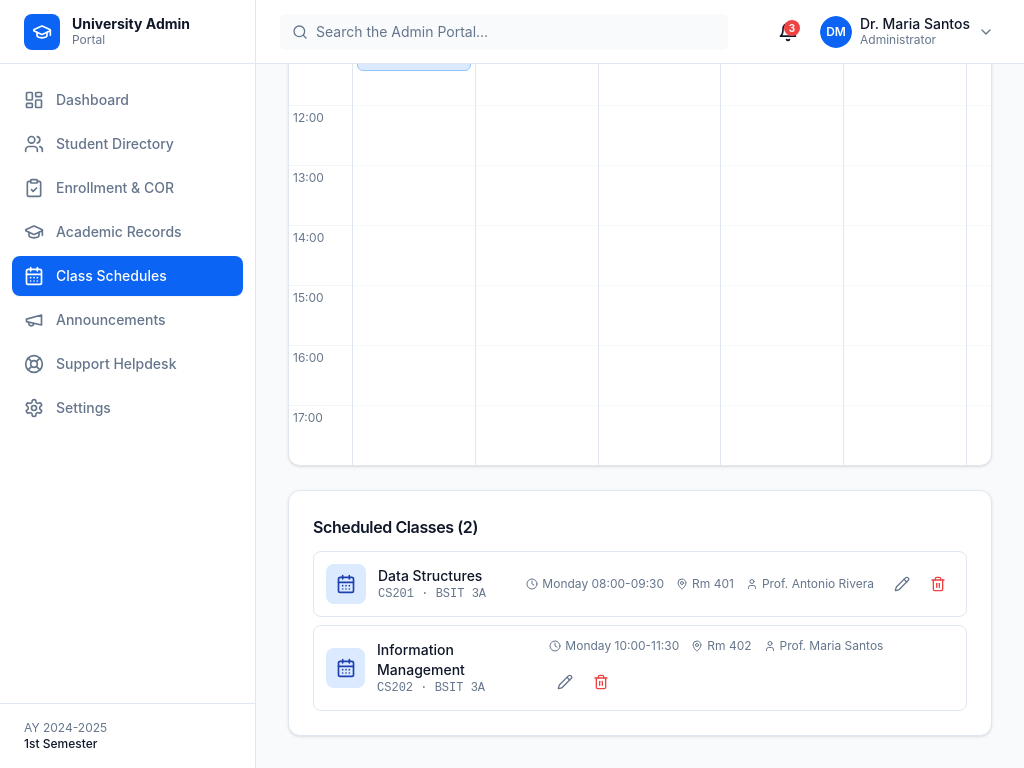
Test: class schedules: edit and delete › edits a class with the same form used to add one
(page scrolled)
Click the button named "Edit CS201 for BSIT 3A on Monday" at [902, 584], box [886, 568, 918, 600]
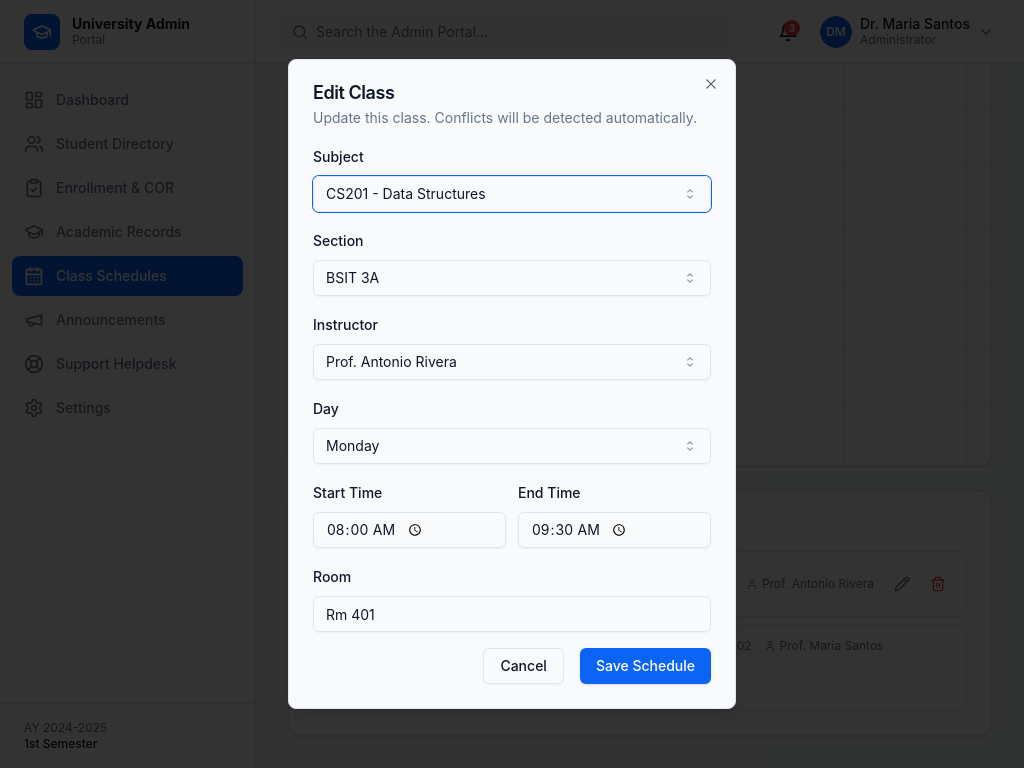
Now the heading "Edit Class" is shown, box [313, 82, 394, 103]
Now the field labelled "Room" holds "Rm 401"
Replace the text in the field labelled "Room" with "Rm 410" at [512, 614], box [313, 596, 711, 632]
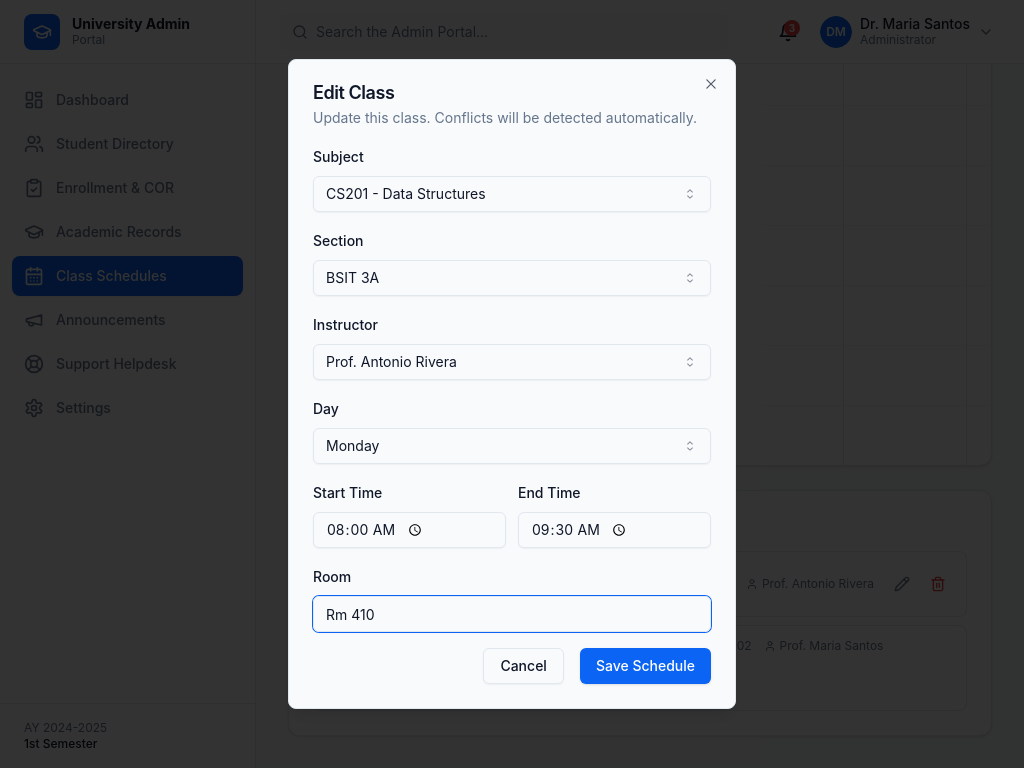
Click the button "Save Schedule" at [645, 666], box [580, 648, 711, 684]
(page scrolled)
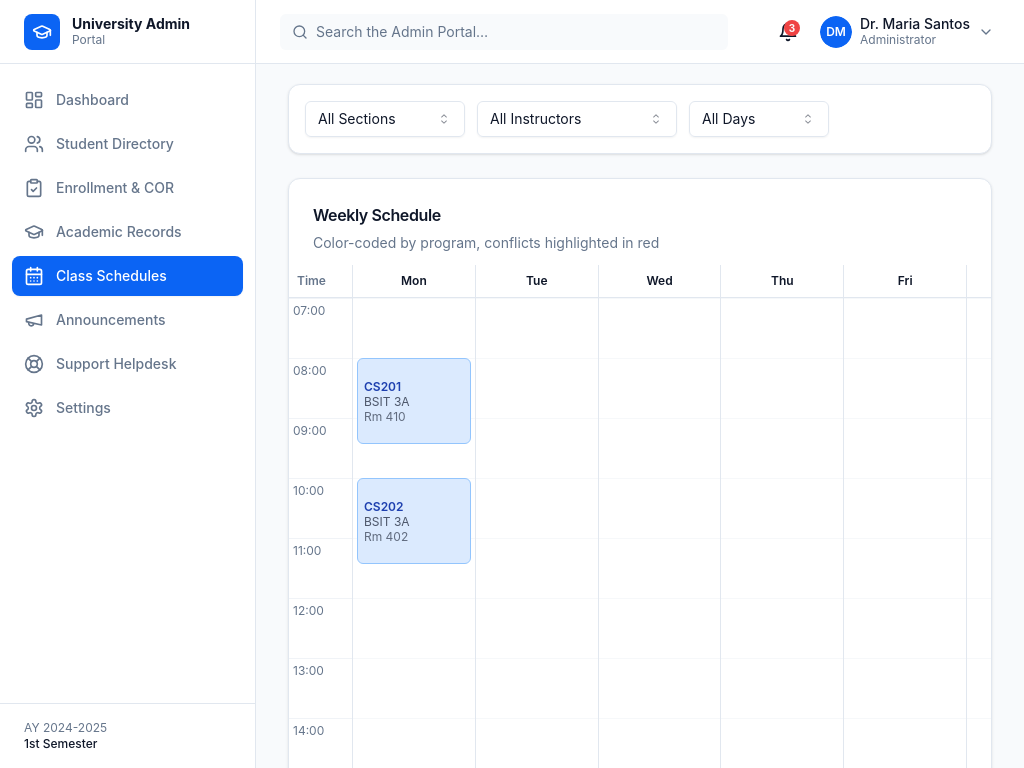
Now the dialog is gone
Now the text "Rm 410" is shown, box [364, 408, 406, 424]
